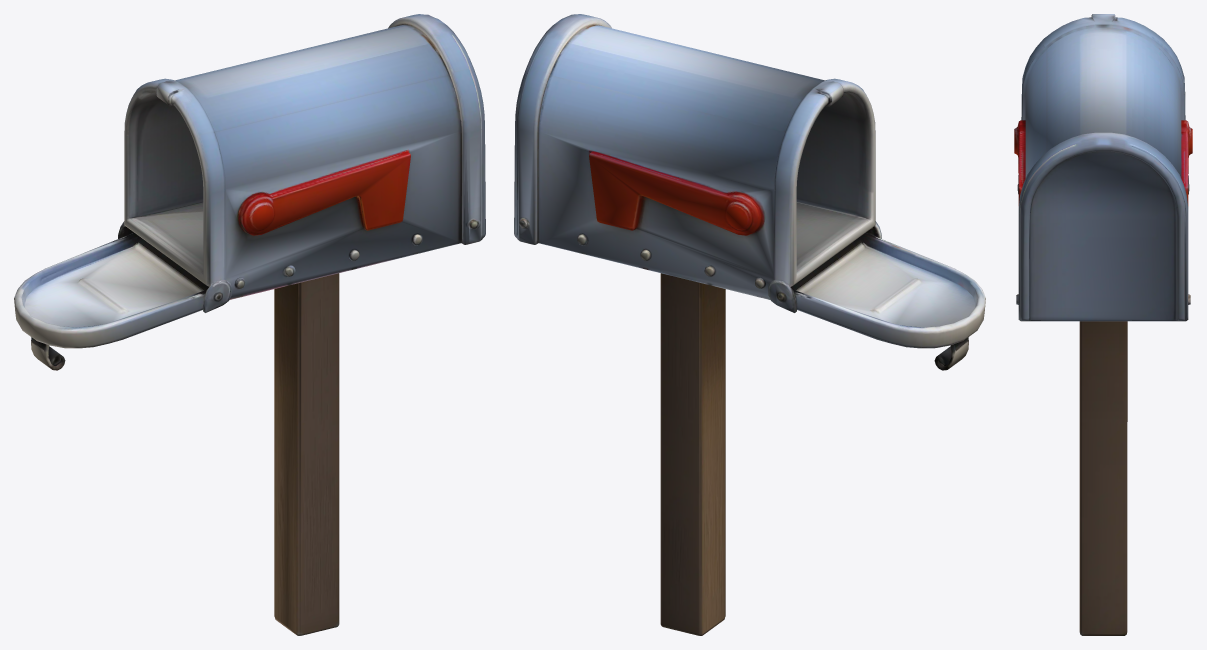
File: Outdoor__mailbox_everyday_realistic_style_811c0cec_v4.cluster.glb
3 views of the same model, side by side, from view 1: azimuth 30°, elevation 25°; view 2: azimuth 150°, elevation 25°; view 3: azimuth 270°, elevation 25° (orthographic). The views are drawn at different scales.
Visible parts, largest first — view 1: mesh_input; view 2: mesh_input; view 3: mesh_input.
Part boxes in pixels (left/top/right/bottom): mesh_input: left=14, top=14, right=485, bottom=635; mesh_input: left=514, top=14, right=985, bottom=635; mesh_input: left=1014, top=14, right=1192, bottom=635.
Bounding box in the file's own units: 1.45 × 1.9 × 0.5587.
1 material, 1 textured.
